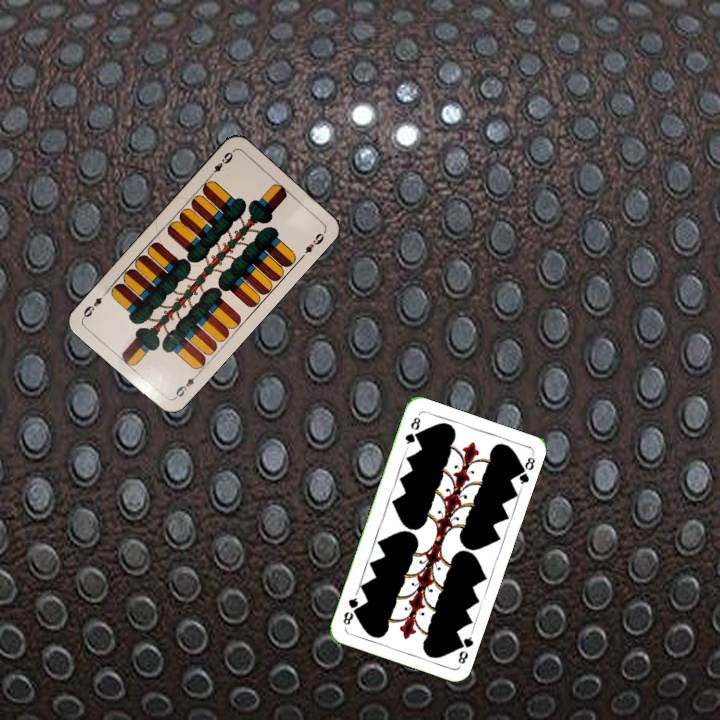E9: (170, 369, 202, 402), (205, 146, 236, 180)
G8: (453, 629, 476, 668), (401, 413, 423, 450)
